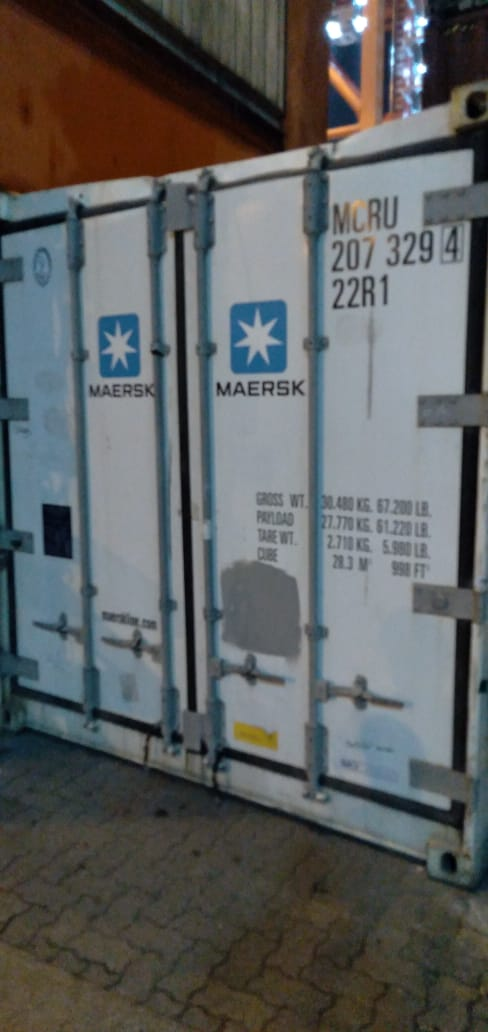moderate: (130, 168, 299, 214)
